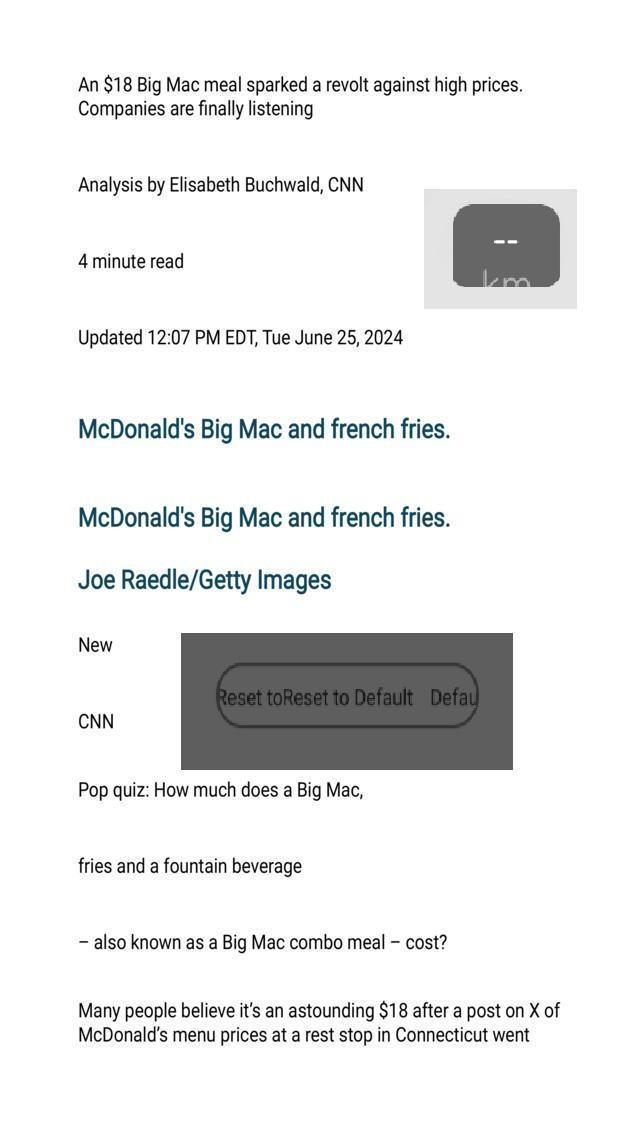Text: (71, 992, 565, 1024), (72, 411, 464, 447), (71, 500, 457, 536), (74, 72, 530, 100), (70, 318, 412, 355), (74, 1024, 536, 1049), (68, 929, 456, 958), (72, 561, 340, 599), (72, 774, 370, 808), (70, 844, 314, 883), (70, 171, 372, 201), (74, 98, 324, 124), (72, 247, 190, 276), (75, 706, 118, 736), (76, 633, 116, 662)
TextButton: (216, 662, 484, 730), (449, 202, 560, 288)
WS1: (477, 267, 538, 301), (465, 689, 504, 711), (197, 689, 233, 711)
